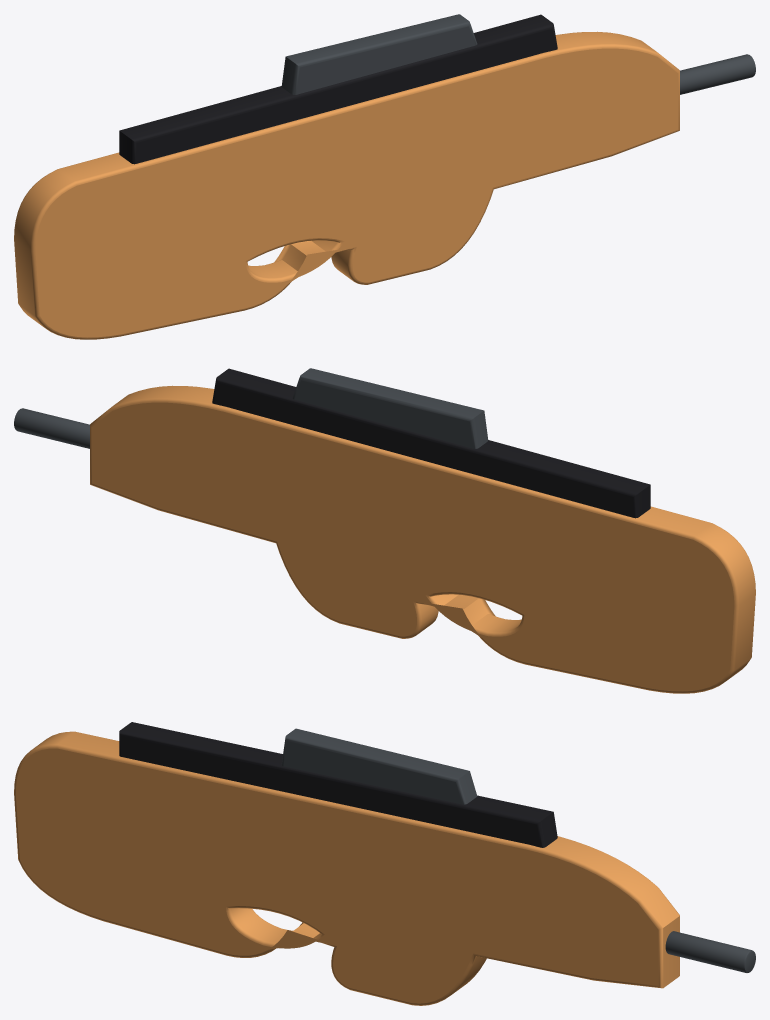
3 views of the same model, one above another, from view 1: azimuth 30°, elevation 25°; view 2: azimuth 150°, elevation 25°; view 3: azimuth 330°, elevation 25° (orthographic).
Parts seen in each view (by area): view 1: paint_0, dark_1, metal_2, metal_3; view 2: paint_0, dark_1, metal_2, metal_3; view 3: paint_0, dark_1, metal_2, metal_3.
Part boxes in pixels (box(x1,y1,x2,y2)): paint_0: box(14, 31, 679, 339); dark_1: box(119, 14, 557, 164); metal_2: box(281, 14, 477, 94); metal_3: box(680, 54, 755, 94); paint_0: box(90, 385, 755, 693); dark_1: box(212, 368, 650, 518); metal_2: box(292, 368, 488, 448); metal_3: box(14, 408, 89, 448); paint_0: box(14, 731, 679, 1005); dark_1: box(119, 722, 557, 847); metal_2: box(281, 728, 477, 804); metal_3: box(665, 931, 755, 972).
Size of the model in its own units: 354 by 109 by 16.64.
